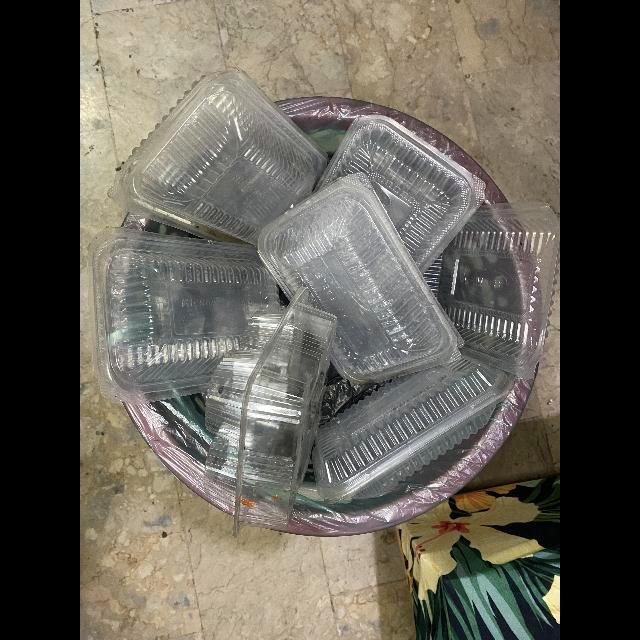plastic_container: (257, 173, 465, 385), (123, 71, 329, 248), (87, 227, 279, 405), (204, 287, 337, 528), (312, 356, 515, 504), (312, 115, 485, 274), (424, 202, 560, 380)
